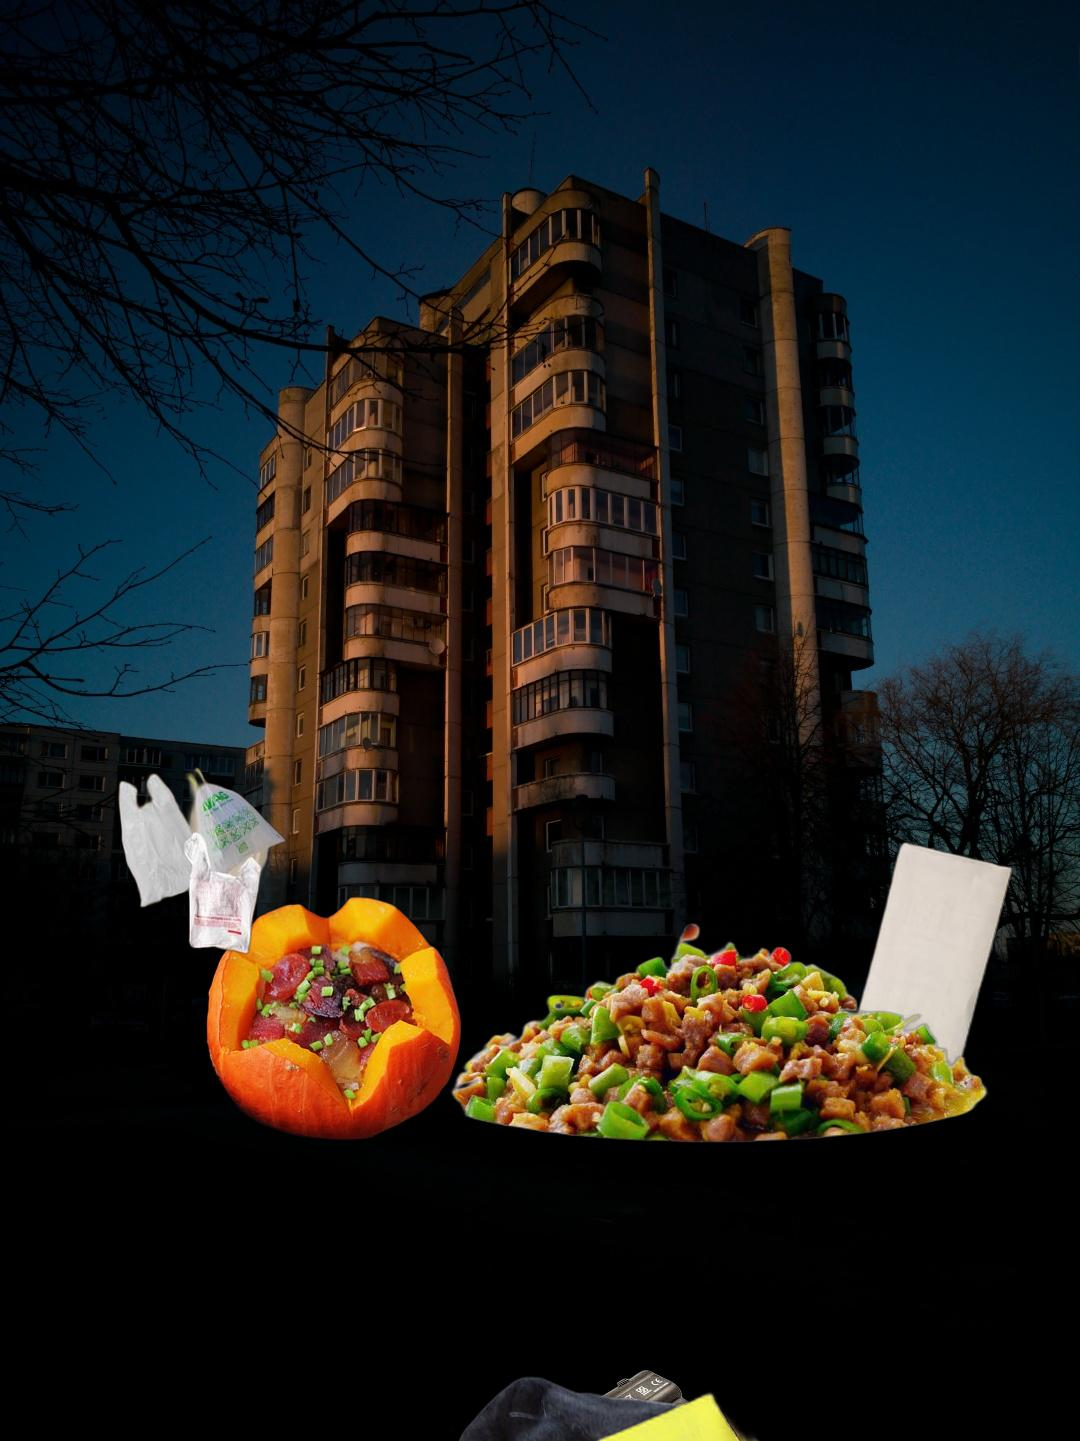battery: (996, 20, 1080, 511), (428, 1370, 691, 1441)
biological: (445, 920, 995, 1145), (205, 894, 463, 1143)
clothes: (431, 1373, 799, 1441)
paper: (833, 840, 1016, 1120)
plastic-bag: (115, 716, 288, 957)
trashbox-cardboard: (335, 1384, 1080, 1441)
